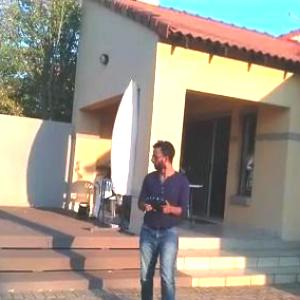follow: (129, 135, 193, 299)
